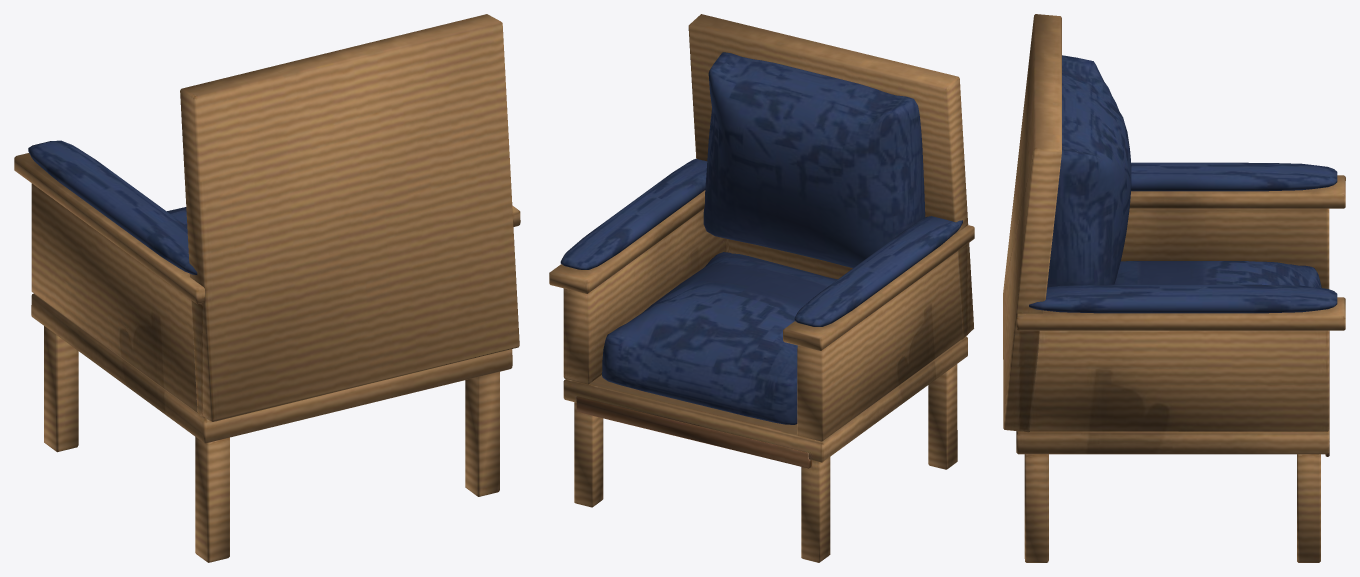
Rendered from armchair_indigo.glb.
The picture shows the model from 3 angles, left to right: view 1: azimuth 30°, elevation 25°; view 2: azimuth 150°, elevation 25°; view 3: azimuth 270°, elevation 25°; orthographic projection. The views are drawn at different scales.
Parts seen in each view (by area): view 1: prop_armchair_indigo_wood, prop_armchair_indigo_felt; view 2: prop_armchair_indigo_felt, prop_armchair_indigo_wood; view 3: prop_armchair_indigo_wood, prop_armchair_indigo_felt.
Boxes of the visible parts, box(x1,y1,x2,y2) form: prop_armchair_indigo_wood: box(14, 14, 520, 562); prop_armchair_indigo_felt: box(28, 140, 197, 274); prop_armchair_indigo_felt: box(560, 52, 962, 424); prop_armchair_indigo_wood: box(549, 14, 974, 562); prop_armchair_indigo_wood: box(1003, 14, 1345, 562); prop_armchair_indigo_felt: box(1029, 55, 1337, 313).
Size of the model in its own units: 1.64 by 2.24 by 1.66.
2 materials, 2 textured.
